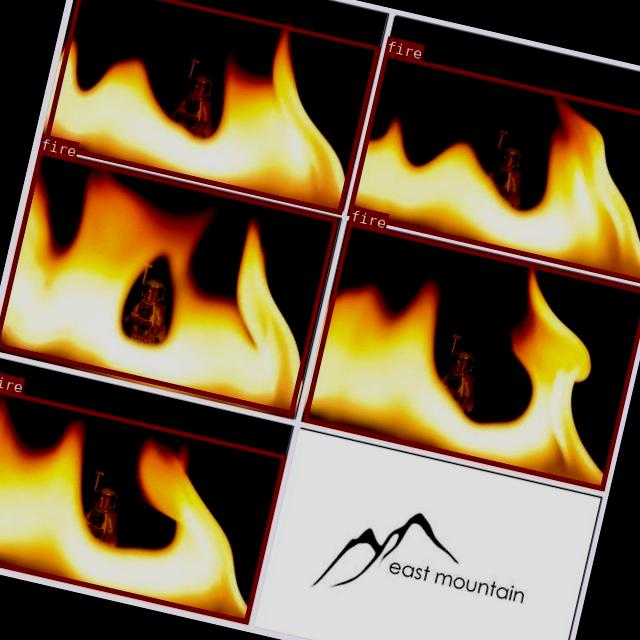fire: (301, 220, 640, 489), (0, 148, 337, 414), (42, 0, 379, 212), (346, 51, 640, 283), (0, 384, 285, 622)
